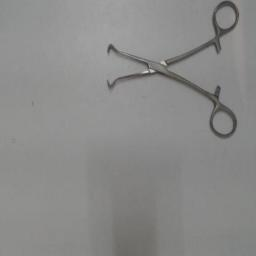Babcock Tissue Forceps: (104, 0, 242, 140)
